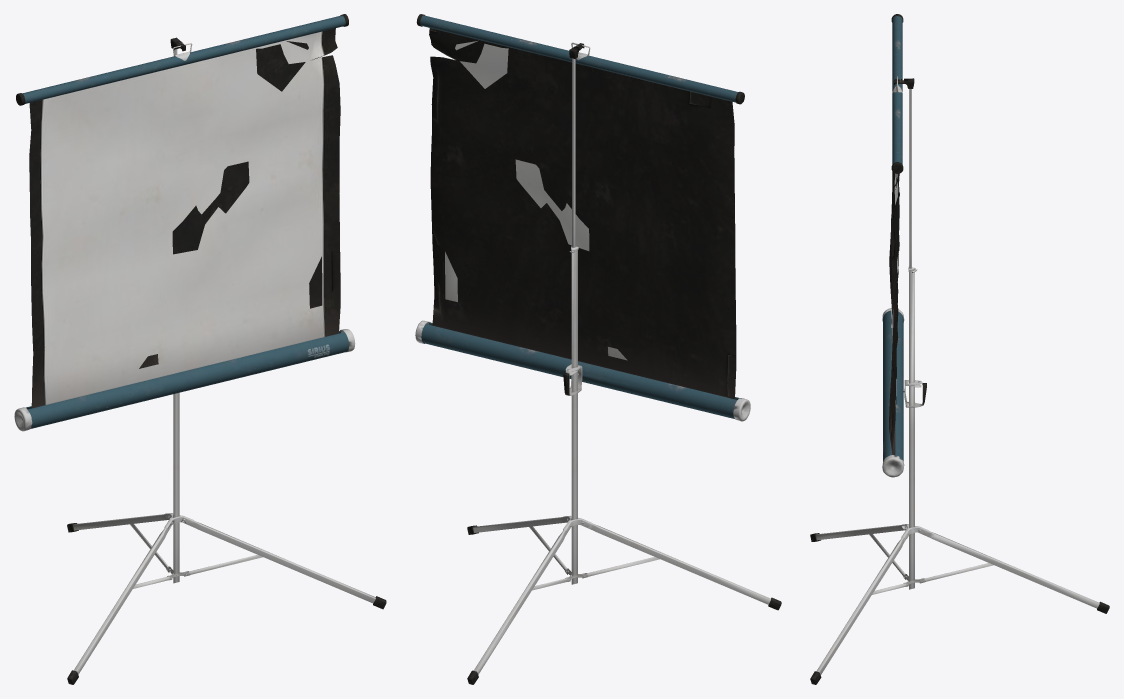
Rendered from projector_screen.glb.
3 renders of one model, left to right at view 1: azimuth 30°, elevation 25°; view 2: azimuth 150°, elevation 25°; view 3: azimuth 270°, elevation 25°, orthographic. The views are drawn at different scales.
Visible parts, largest first — view 1: projector_screen, projector_screen_frame; view 2: projector_screen, projector_screen_frame; view 3: projector_screen, projector_screen_frame.
Boxes of the visible parts, x1=… form: projector_screen: x1=14, y1=14, x2=355, y2=431; projector_screen_frame: x1=67, y1=392, x2=386, y2=684; projector_screen: x1=415, y1=14, x2=750, y2=421; projector_screen_frame: x1=467, y1=245, x2=781, y2=684; projector_screen: x1=882, y1=14, x2=926, y2=477; projector_screen_frame: x1=810, y1=267, x2=1109, y2=684.
Bounding box in the file's own units: 1.09 × 1.8 × 0.9157.
Materials: 2 (2 with a texture image).
